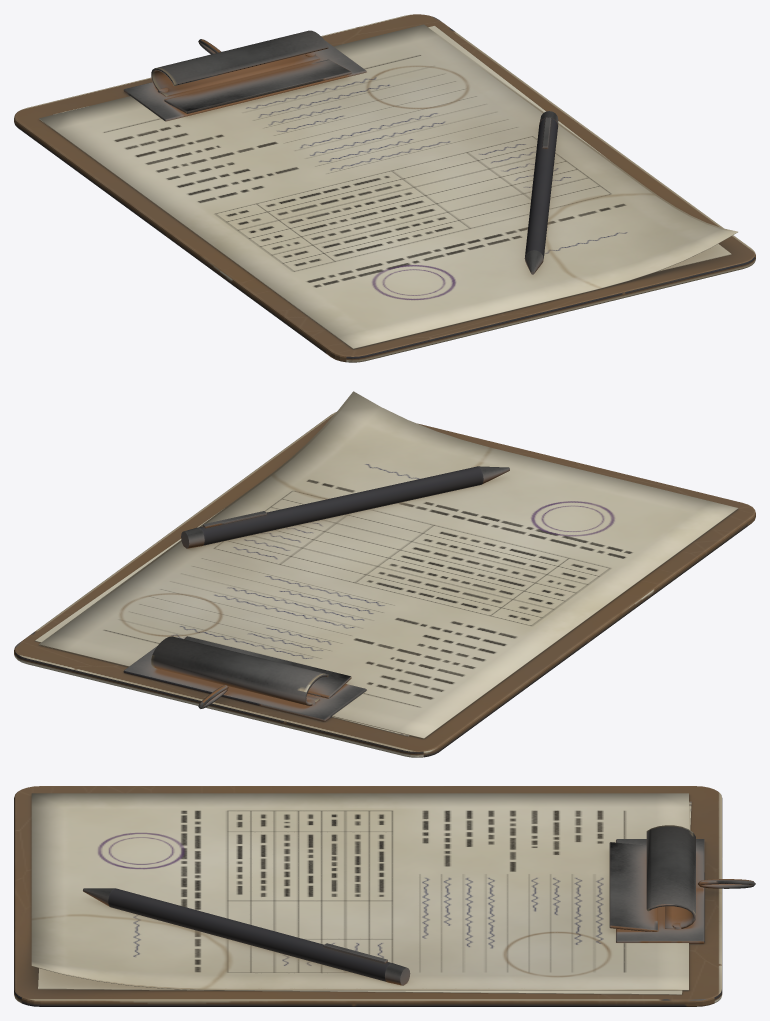
The model's file is Clipboard.fbx.
3 views of the same model, one above another, from view 1: azimuth 30°, elevation 25°; view 2: azimuth 150°, elevation 25°; view 3: azimuth 270°, elevation 25° (orthographic). The views are drawn at different scales.
Visible parts, largest first — view 1: Clipboard_Mesh; view 2: Clipboard_Mesh; view 3: Clipboard_Mesh.
Part boxes in pixels (x1,y1,x2,y2): Clipboard_Mesh: [14, 14, 755, 362]; Clipboard_Mesh: [14, 391, 755, 757]; Clipboard_Mesh: [14, 786, 755, 1006].
Size of the model in its own units: 0.23 by 0.0177 by 0.3352.
